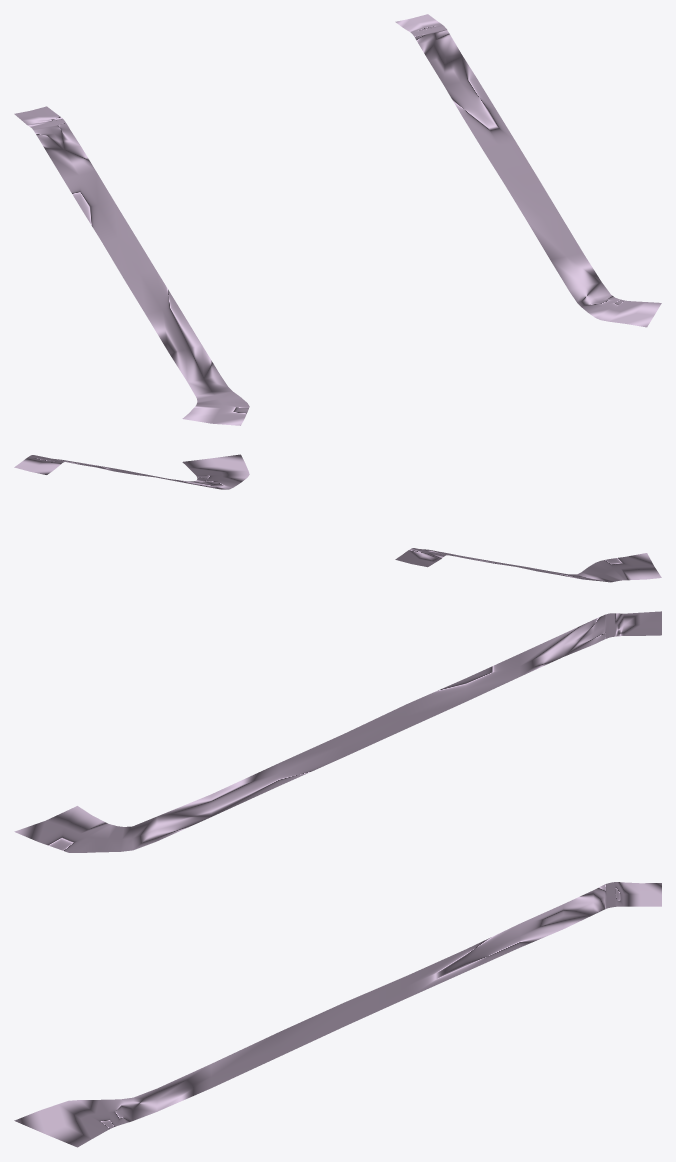
The model's file is planter_soil_slope_b.glb.
3 views of the same model, one above another, from view 1: azimuth 30°, elevation 25°; view 2: azimuth 150°, elevation 25°; view 3: azimuth 270°, elevation 25° (orthographic). The views are drawn at different scales.
Bounding box in the file's own units: 13.44 × 4.04 × 10.82.
